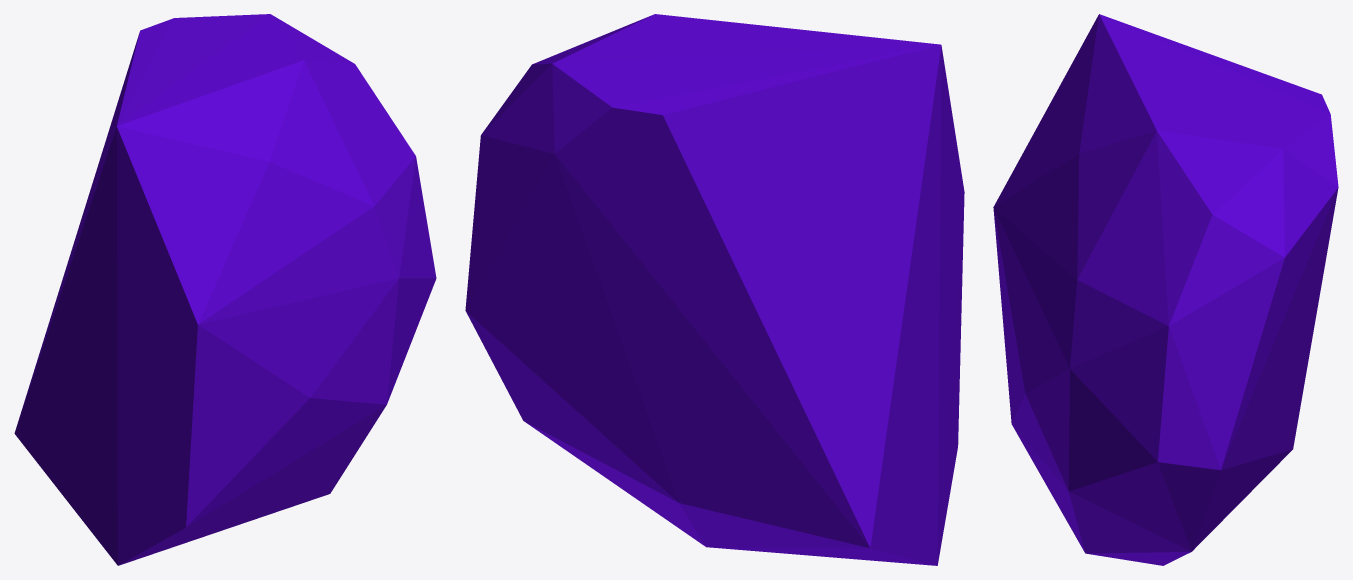
The model's file is arm-L4_convex_piece_022.obj.
3 renders of one model, left to right at view 1: azimuth 30°, elevation 25°; view 2: azimuth 150°, elevation 25°; view 3: azimuth 270°, elevation 25°, orthographic. The views are drawn at different scales.
Bounding box in the file's own units: 0.0421 × 0.0484 × 0.0325.
